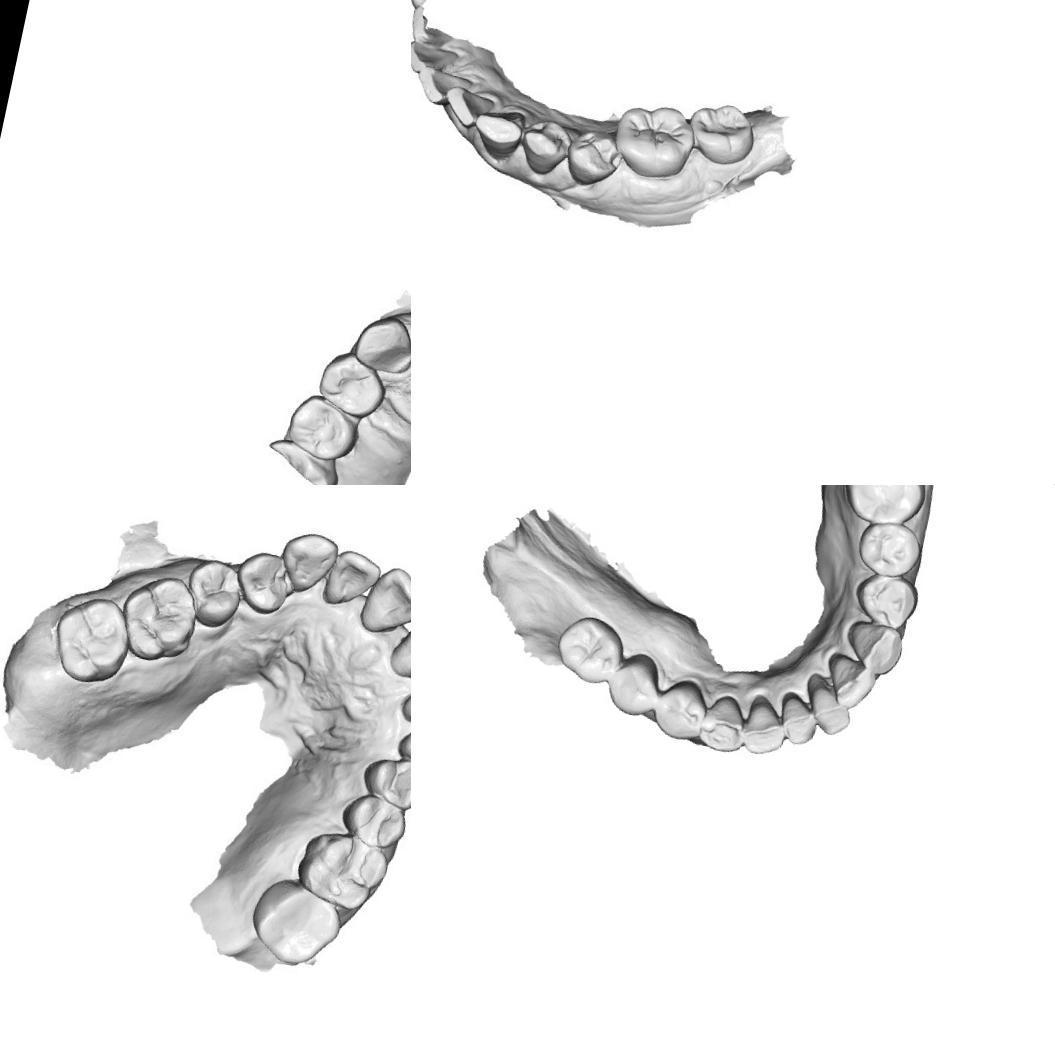canine: (274, 523, 338, 601), (839, 613, 907, 680), (348, 310, 411, 381), (464, 103, 526, 169), (695, 690, 754, 758), (389, 707, 411, 778)
incisor: (816, 650, 884, 718), (797, 672, 858, 741), (738, 692, 796, 761), (769, 690, 826, 751), (364, 565, 411, 633), (327, 551, 377, 609), (442, 81, 498, 132), (418, 63, 479, 109), (411, 33, 462, 77), (393, 619, 411, 683)
molar: (246, 870, 350, 973), (112, 566, 210, 670), (44, 588, 140, 692), (294, 824, 392, 913), (615, 93, 702, 180), (550, 608, 631, 690), (685, 94, 763, 170), (835, 485, 936, 532)
premolar: (279, 390, 367, 470), (310, 347, 392, 421), (332, 784, 411, 854), (851, 516, 929, 584), (182, 560, 248, 637), (847, 568, 924, 634), (601, 646, 666, 723), (233, 547, 299, 622), (645, 674, 709, 745), (560, 125, 622, 190), (520, 115, 572, 177), (359, 750, 411, 812)
